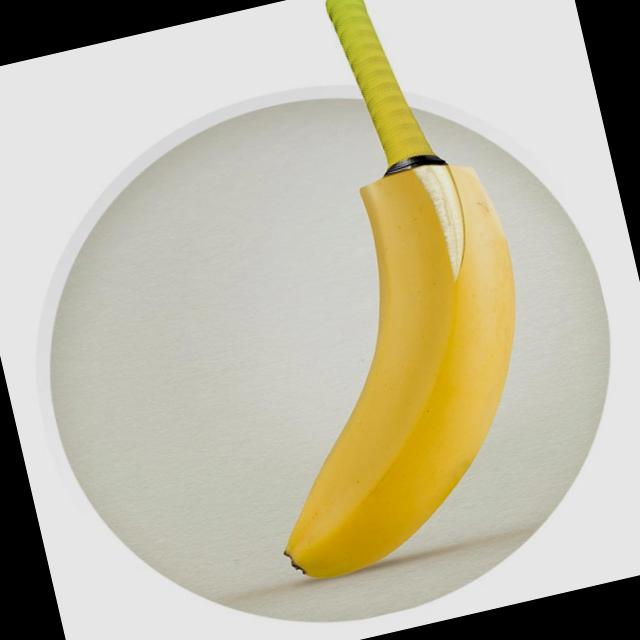banana: (196, 142, 600, 605)
